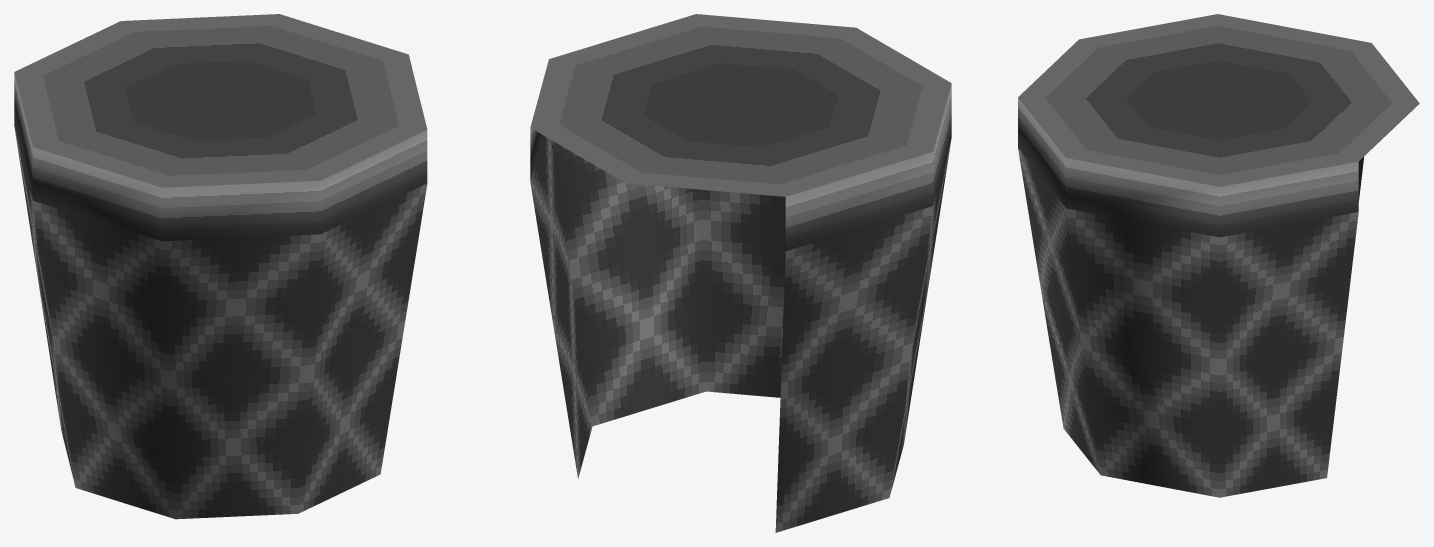
Rendered from trash_bin_0.obj.
3 views of the same model, side by side, from view 1: azimuth 30°, elevation 25°; view 2: azimuth 150°, elevation 25°; view 3: azimuth 270°, elevation 25° (orthographic). The views are drawn at different scales.
Parts seen in each view (by area): view 1: trash_bin_0; view 2: trash_bin_0; view 3: trash_bin_0.
Part boxes in pixels (bbox=[...]): trash_bin_0: bbox=[14, 14, 427, 519]; trash_bin_0: bbox=[530, 14, 951, 532]; trash_bin_0: bbox=[1018, 14, 1419, 497].
Size of the model in its own units: 0.1626 by 0.1328 by 0.1602.
1 material, 1 textured.
